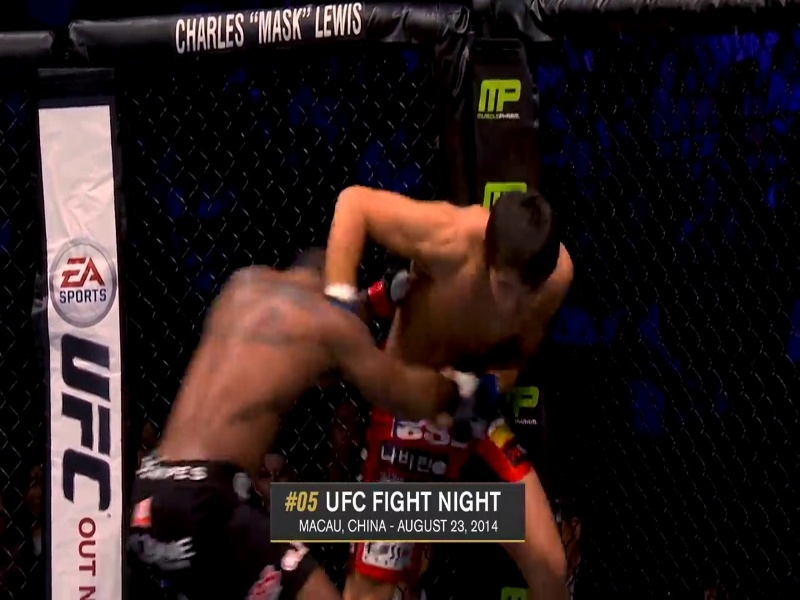fighter: (120, 244, 488, 600), (320, 175, 582, 600)
